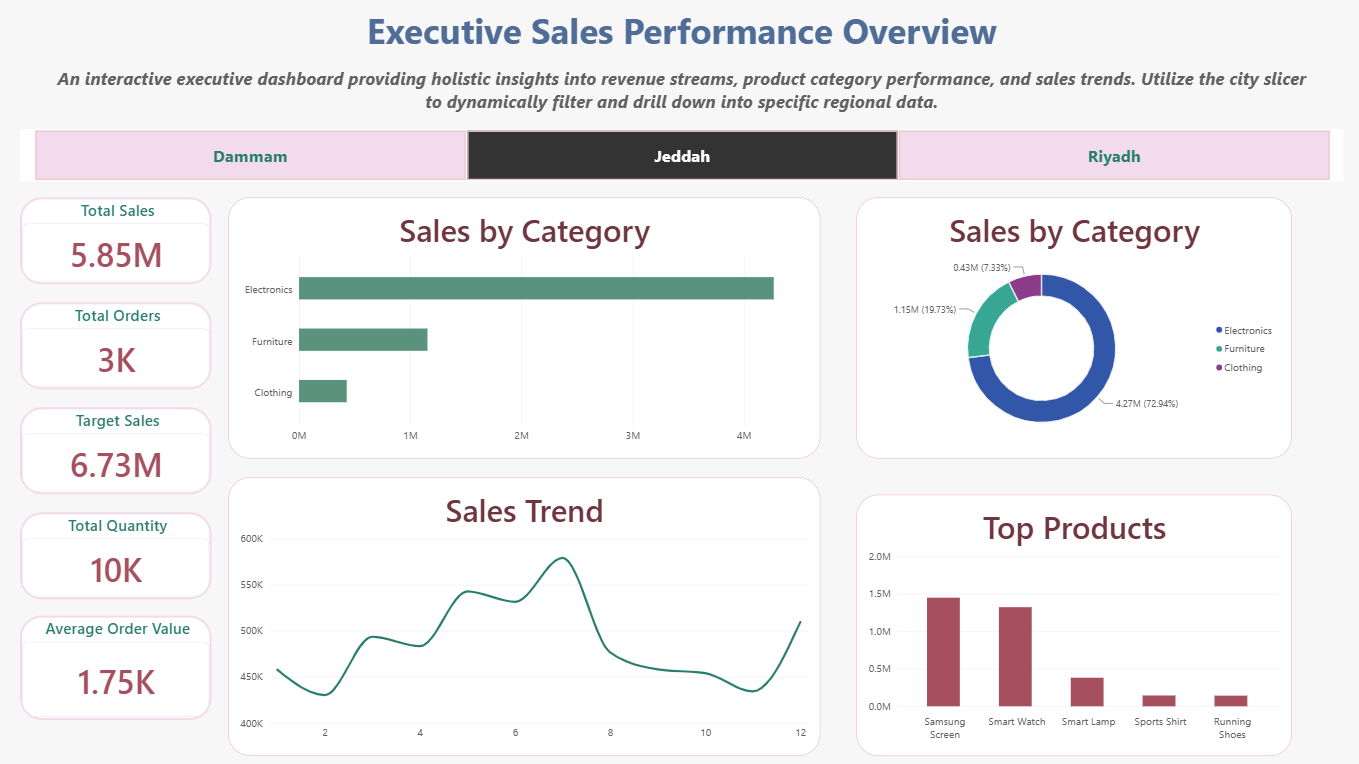

What the dashboard file says about the page in this screenshot:
{"tool":"powerbi","page":{"name":"Executive Overview","canvas":[1920,1080],"ordinal":0},"visuals":[{"type":"cardVisual","title":"Total Sales","fields":{"Data":["FactSales.Total Sales"]},"box":[48,288,264,120],"z":0},{"type":"cardVisual","title":"Total Orders","fields":{"Data":["FactSales.Total Orders"]},"box":[48,432,264,120],"z":1000},{"type":"cardVisual","title":"Average Order Value","fields":{"Data":["FactSales.Average Order Value"]},"box":[48,864,264,144],"z":2000},{"type":"cardVisual","title":"Total Quantity","fields":{"Data":["FactSales.Total Quantity"]},"box":[48,720,264,120],"z":3000},{"type":"cardVisual","title":"Target Sales","fields":{"Data":["FactSales.Target Sales"]},"box":[48,576,264,120],"z":4000},{"type":"clusteredBarChart","title":"Sales by Category","fields":{"Category":["DimProduct.Category"],"Y":["FactSales.Total Sales"]},"box":[336,288,816,360],"z":5000},{"type":"lineChart","title":"Sales Trend","fields":{"Category":["DimDate.Month"],"Y":["FactSales.Total Sales"]},"box":[336,672,816,384],"z":6000},{"type":"donutChart","title":"Sales by Category","fields":{"Category":["DimProduct.Category"],"Y":["FactSales.Total Sales"]},"box":[1200,288,600,360],"z":7000},{"type":"slicer","fields":{"Values":["DimStore.City"]},"box":[48,192,1824,72],"z":8000},{"type":"clusteredColumnChart","title":"Top Products","fields":{"Category":["DimProduct.ProductName"],"Y":["FactSales.Total Sales"]},"box":[1200,696,600,360],"z":9000},{"type":"textbox","box":[96,24,1728,168],"z":10000}]}

Visuals, with their boxes in screenshot pixels (x1, y1, x2, y2), scaled from the page's 1920x1080 canvas onto the 1359x764 screenshot:
"Total Sales" cardVisual: [x1=34, y1=204, x2=221, y2=289]
"Total Orders" cardVisual: [x1=34, y1=306, x2=221, y2=390]
"Average Order Value" cardVisual: [x1=34, y1=611, x2=221, y2=713]
"Total Quantity" cardVisual: [x1=34, y1=509, x2=221, y2=594]
"Target Sales" cardVisual: [x1=34, y1=407, x2=221, y2=492]
"Sales by Category" clusteredBarChart: [x1=238, y1=204, x2=815, y2=458]
"Sales Trend" lineChart: [x1=238, y1=475, x2=815, y2=747]
"Sales by Category" donutChart: [x1=849, y1=204, x2=1274, y2=458]
slicer - DimStore.City: [x1=34, y1=136, x2=1325, y2=187]
"Top Products" clusteredColumnChart: [x1=849, y1=492, x2=1274, y2=747]
textbox: [x1=68, y1=17, x2=1291, y2=136]
